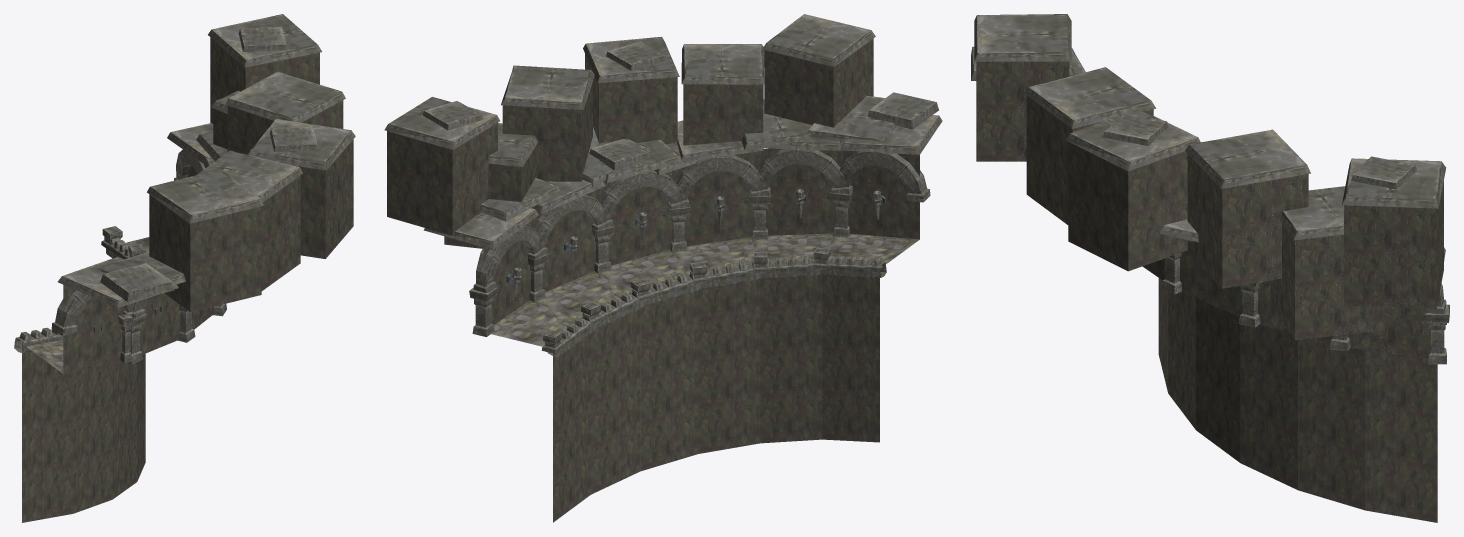
File: spiral_down.obj
3 views of the same model, side by side, from view 1: azimuth 30°, elevation 25°; view 2: azimuth 150°, elevation 25°; view 3: azimuth 270°, elevation 25° (orthographic). The views are drawn at different scales.
Visible parts, largest first — view 1: spiral_down; view 2: spiral_down; view 3: spiral_down.
Part boxes in pixels (left/top/right/bottom): spiral_down: left=14, top=14, right=355, bottom=522; spiral_down: left=384, top=14, right=942, bottom=522; spiral_down: left=971, top=14, right=1449, bottom=522.
Bounding box in the file's own units: 55.39 × 52.14 × 51.51.
